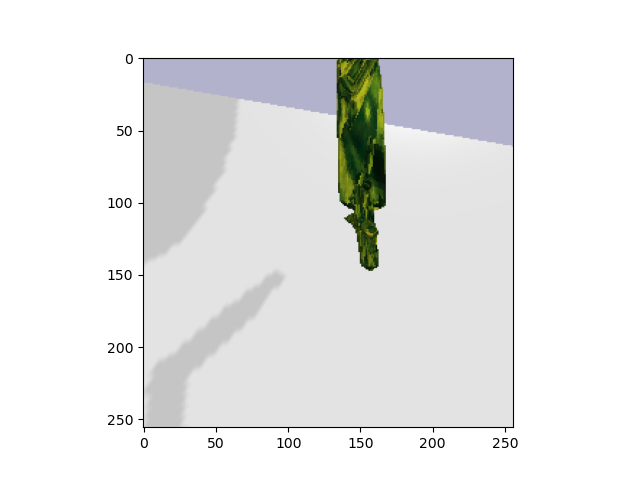v249b387_108: (324, 58, 404, 278)
